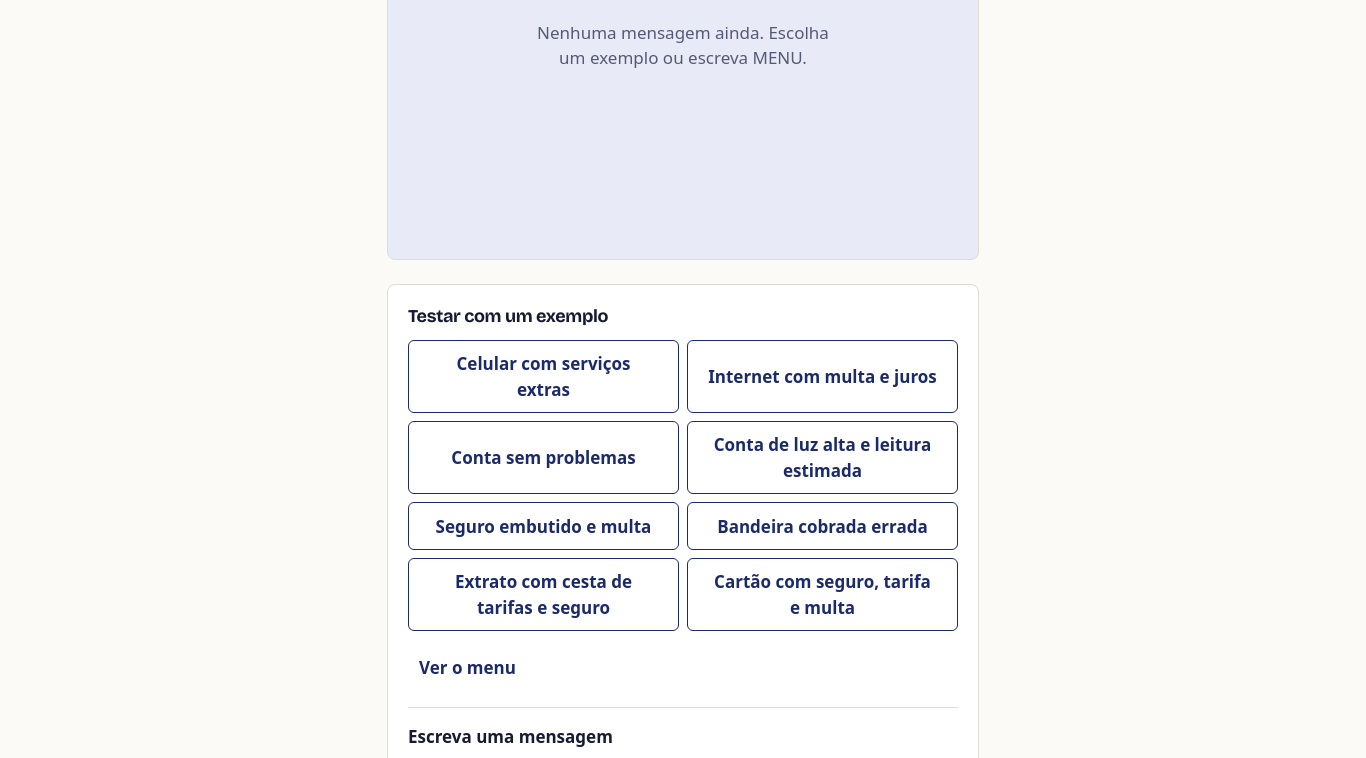
Test: #58: simulador do bot de WhatsApp › o link do resultado abre /r/<id> dentro do app
(page scrolled)
Click the button "Celular com serviços extras": x=544, y=377 [408,340,679,414]
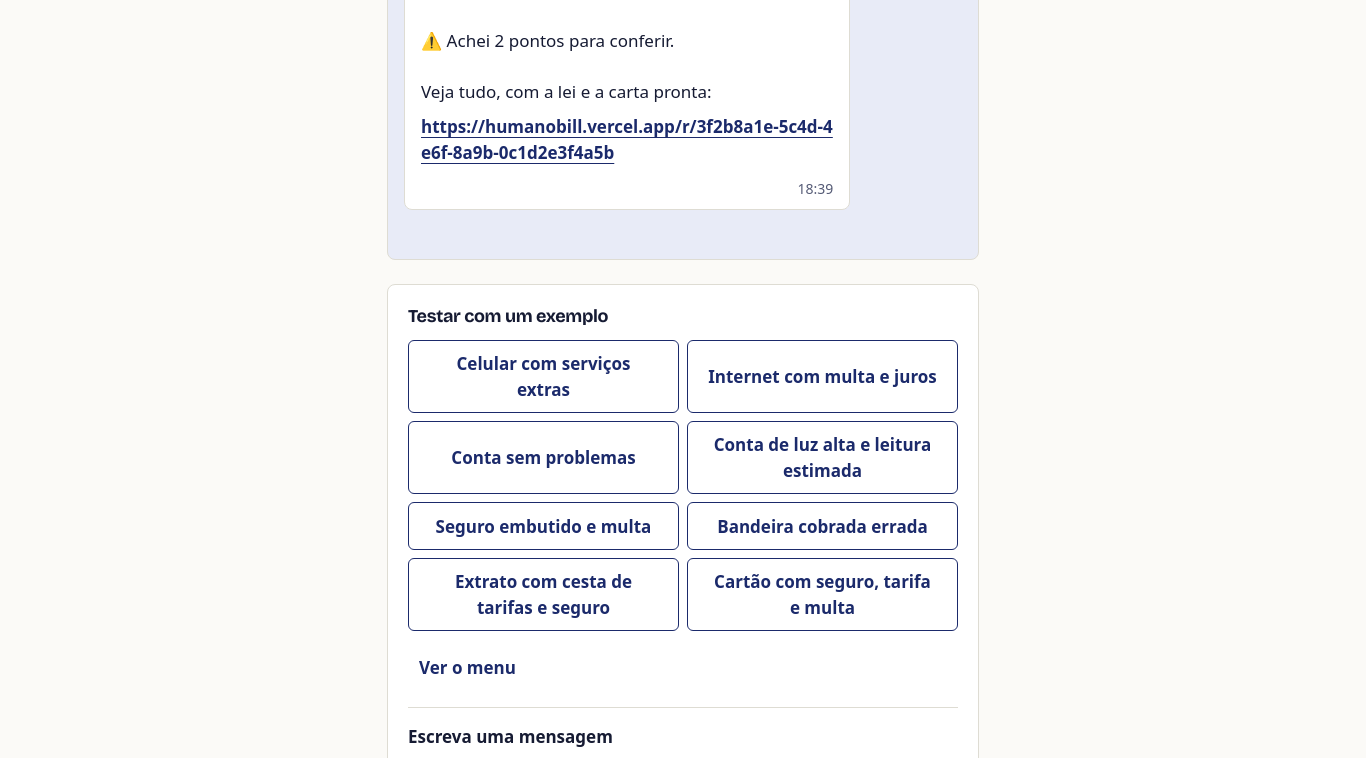
Click the link: x=627, y=140 [421,104,833,175]
(page scrolled)
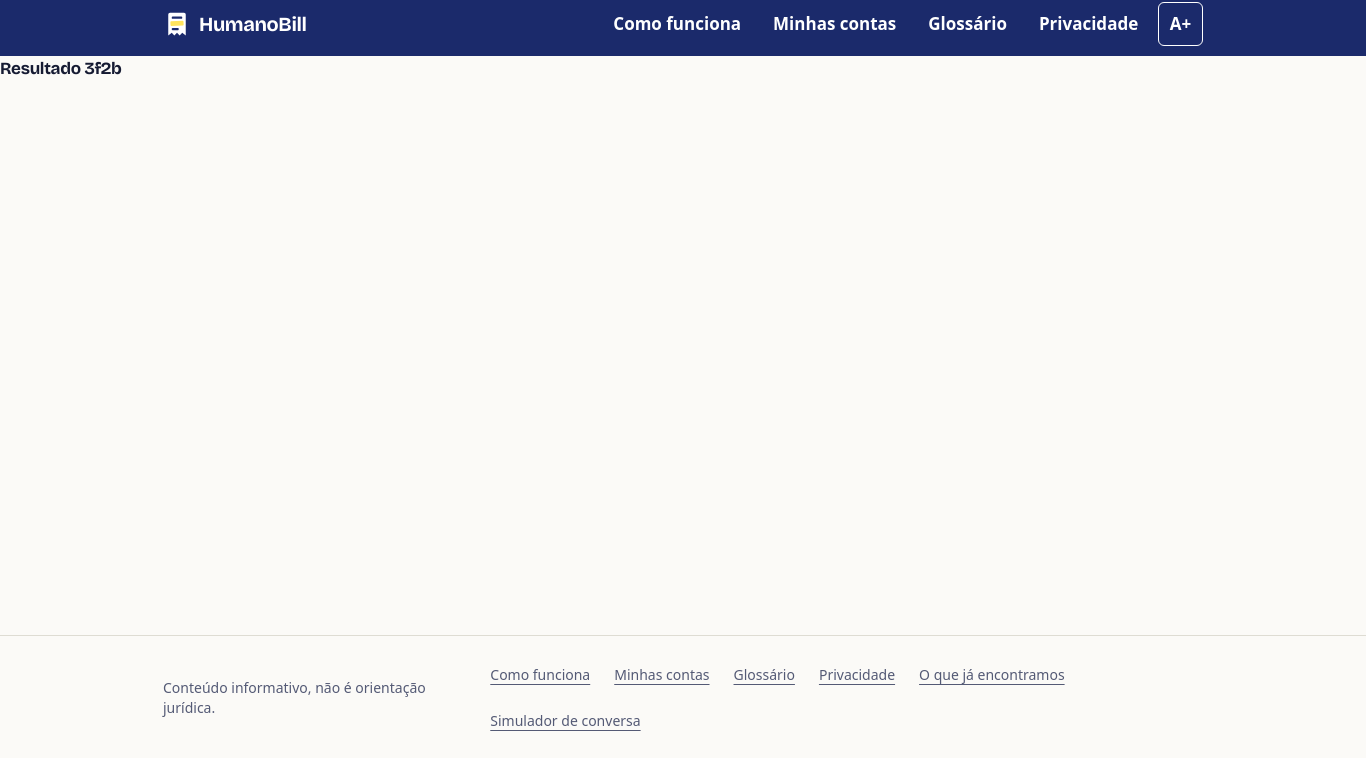
Expected: the heading "Resultado 3f2b" is shown, [0,58,122,79]
